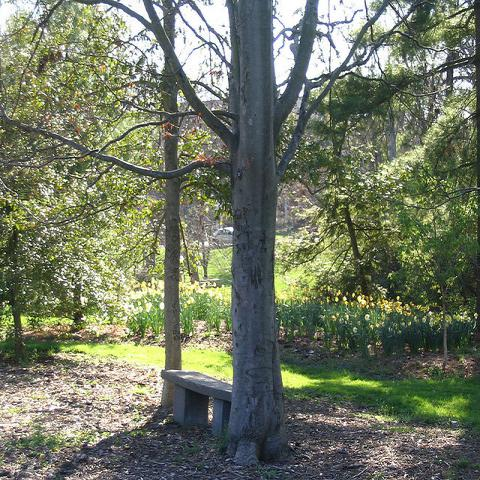car: (213, 227, 233, 243)
